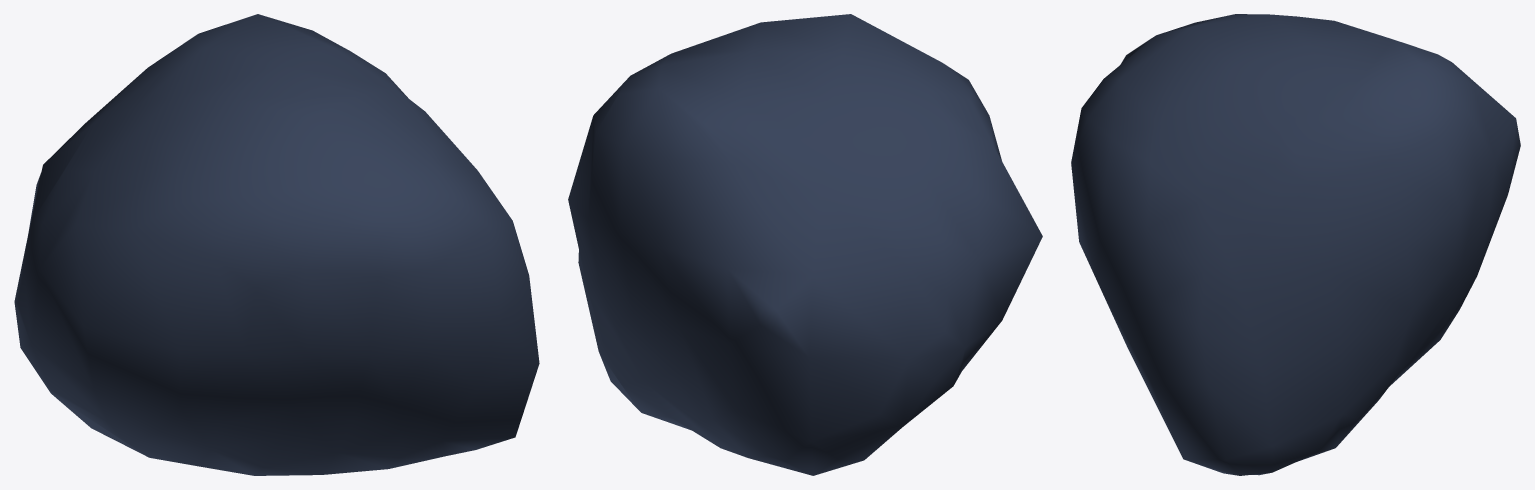
The model's file is Rock_12.fbx.
The picture shows the model from 3 angles, left to right: view 1: azimuth 30°, elevation 25°; view 2: azimuth 150°, elevation 25°; view 3: azimuth 270°, elevation 25°; orthographic projection. The views are drawn at different scales.
Visible parts, largest first — view 1: Rock 12; view 2: Rock 12; view 3: Rock 12.
Boxes of the visible parts, x1=… form: Rock 12: x1=14, y1=14, x2=539, y2=475; Rock 12: x1=568, y1=14, x2=1042, y2=475; Rock 12: x1=1071, y1=14, x2=1520, y2=475.
Size of the model in its own units: 68.65 by 61.27 by 65.21.
